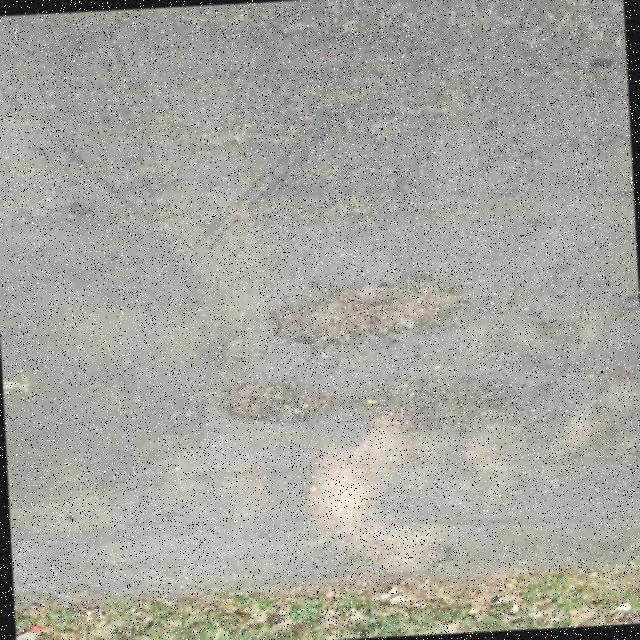Pothole: (273, 275, 462, 349), (232, 385, 327, 421)
